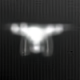plane: (6, 21, 72, 58)
